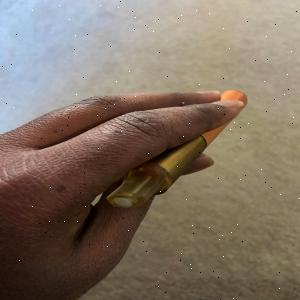Golden-E-Ciggirate: (99, 79, 261, 216)
